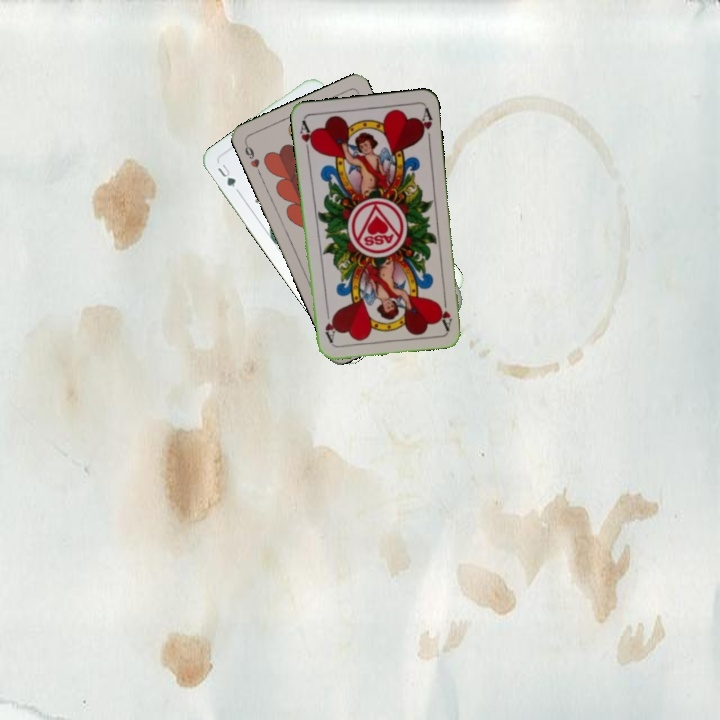GU: (213, 160, 238, 190)
H9: (241, 139, 263, 177)
HA: (295, 117, 317, 157), (435, 291, 454, 332)
